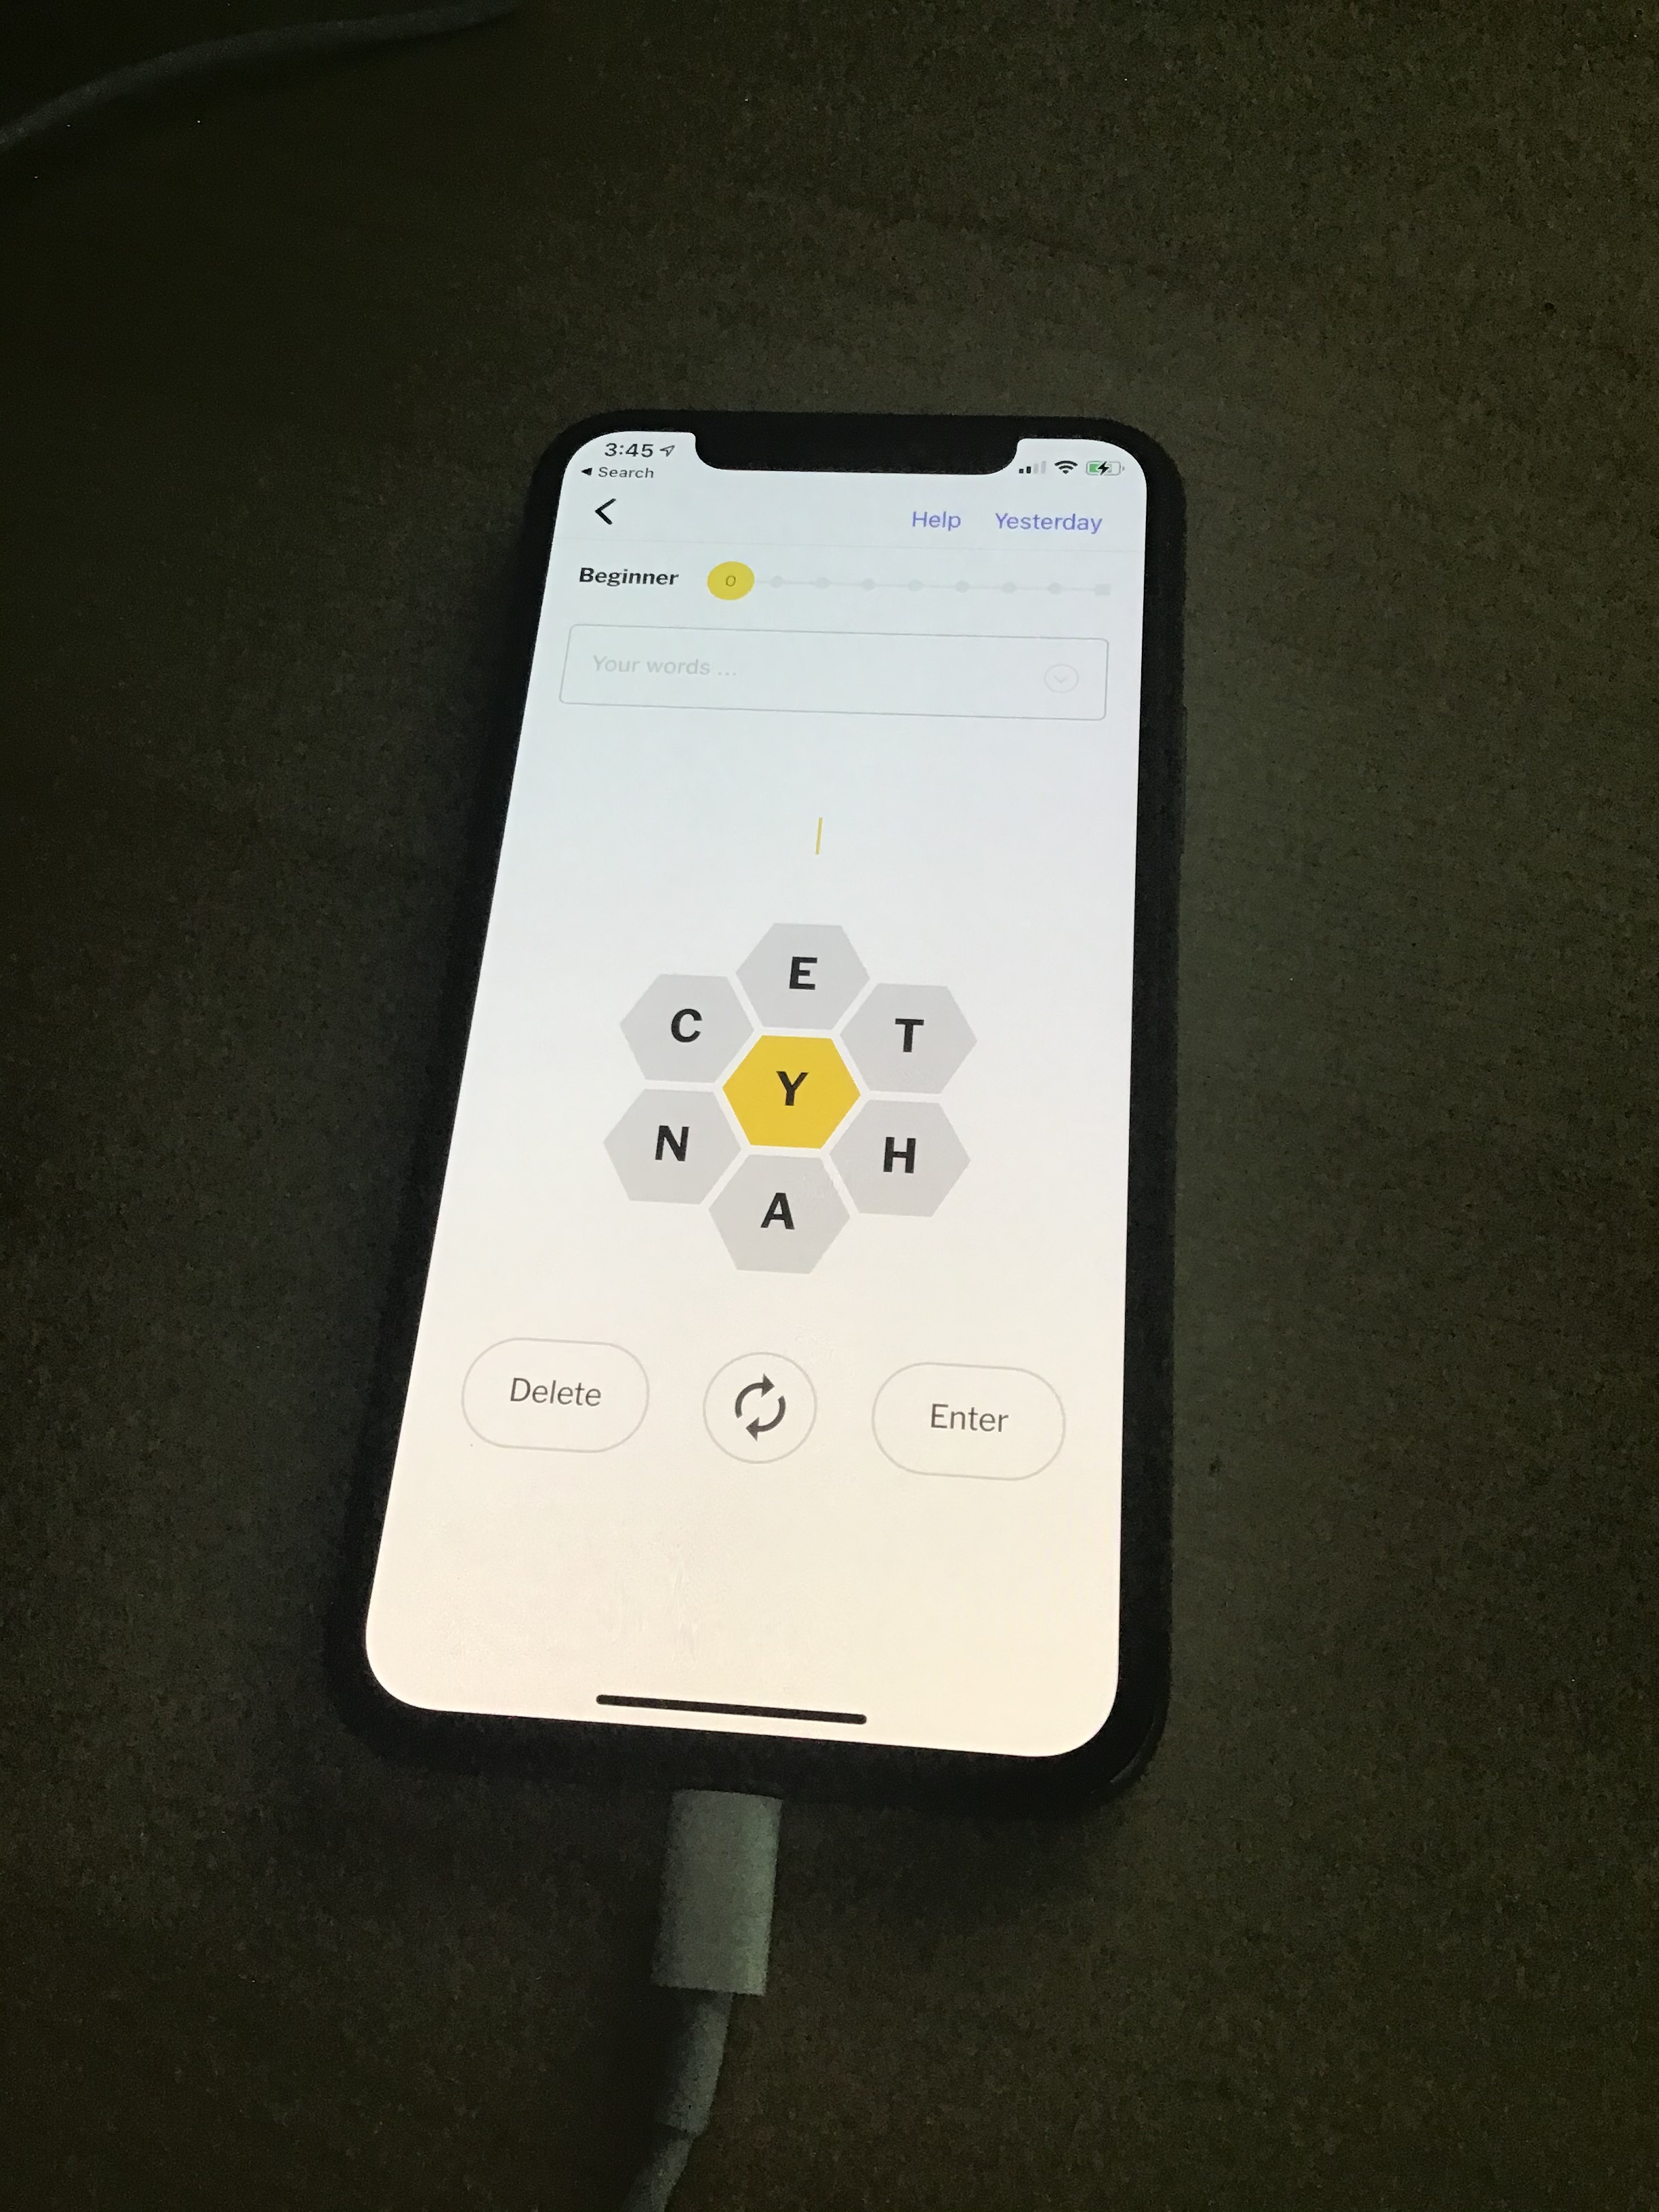Board: (589, 899, 1002, 1298)
